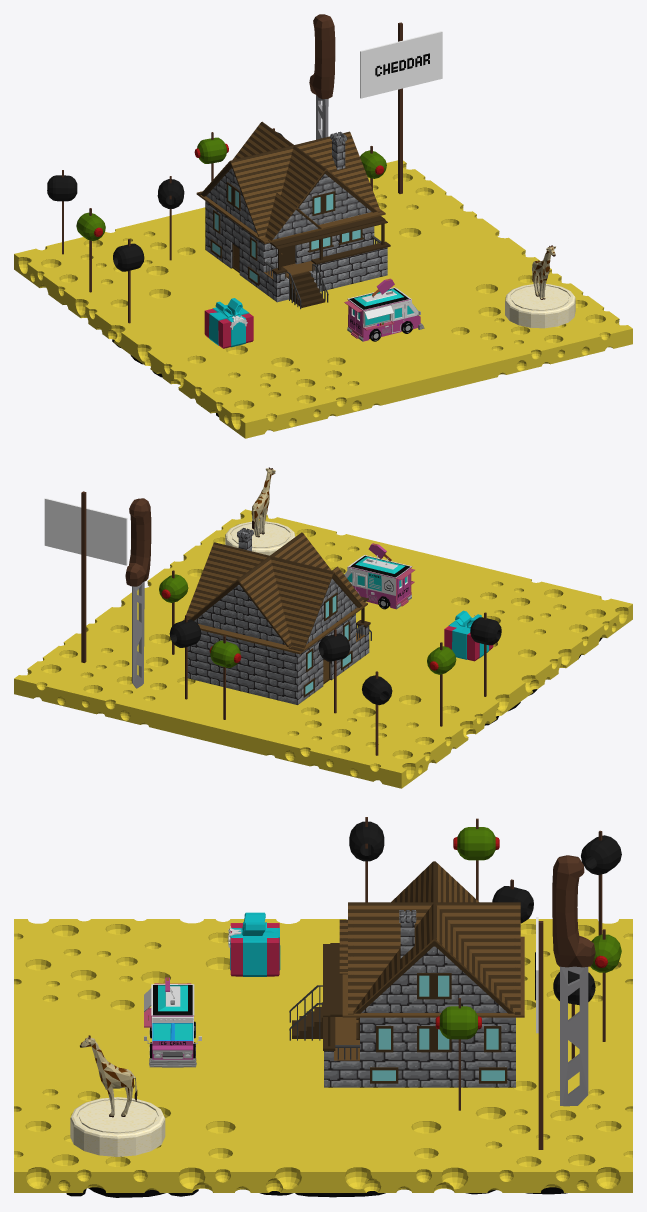
3 renders of one model, top to bottom at view 1: azimuth 30°, elevation 25°; view 2: azimuth 150°, elevation 25°; view 3: azimuth 270°, elevation 25°, orthographic. The views are drawn at different scales.
Parts seen in each view (by area): view 1: Cube.022, Cube.586, Cube.023, VEHICLES_ICE_CREAM_TRUCK, Cylinder.016, Cube.024, OBJRANDOM_GIANT_PRESENT, Sphere.017, Sphere.016, Sphere.020, Sphere.018, Sphere.022 (+2 smaller); view 2: Cube.022, Cube.586, Cube.023, Cube.024, VEHICLES_ICE_CREAM_TRUCK, OBJRANDOM_GIANT_PRESENT, Cylinder.016, Sphere.016, Sphere.017, Sphere.020, Sphere.021, Sphere.022 (+3 smaller); view 3: Cube.022, Cube.586, Cube.024, Cylinder.016, VEHICLES_ICE_CREAM_TRUCK, OBJRANDOM_GIANT_PRESENT, Cube.023, Sphere.016, Sphere.019, ANIMAL_JIRAFA, Sphere.018, Sphere.017 (+4 smaller).
Part boxes in pixels (<box>): Cube.022: <box>14,160,632,438</box>; Cube.586: <box>196,121,390,309</box>; Cube.023: <box>360,22,442,193</box>; VEHICLES_ICE_CREAM_TRUCK: <box>344,278,424,341</box>; Cylinder.016: <box>505,284,575,328</box>; Cube.024: <box>309,14,335,139</box>; OBJRANDOM_GIANT_PRESENT: <box>204,298,253,348</box>; Sphere.017: <box>113,239,144,323</box>; Sphere.016: <box>47,170,77,254</box>; Sphere.020: <box>157,176,184,260</box>; Sphere.018: <box>76,208,105,292</box>; Sphere.022: <box>194,132,228,181</box>; Cube.022: <box>14,509,632,788</box>; Cube.586: <box>182,528,371,704</box>; Cube.023: <box>44,491,127,662</box>; Cube.024: <box>125,498,151,688</box>; VEHICLES_ICE_CREAM_TRUCK: <box>344,543,414,609</box>; OBJRANDOM_GIANT_PRESENT: <box>444,610,493,661</box>; Cylinder.016: <box>225,521,295,555</box>; Sphere.016: <box>362,671,392,755</box>; Sphere.017: <box>470,612,501,696</box>; Sphere.020: <box>318,629,349,713</box>; Sphere.021: <box>169,615,201,699</box>; Sphere.022: <box>209,635,241,719</box>; Cube.022: <box>14,919,632,1192</box>; Cube.586: <box>289,861,524,1087</box>; Cube.024: <box>552,855,595,1106</box>; Cylinder.016: <box>70,1097,165,1156</box>; VEHICLES_ICE_CREAM_TRUCK: <box>144,977,201,1067</box>; OBJRANDOM_GIANT_PRESENT: <box>228,912,280,976</box>; Cube.023: <box>535,917,543,1149</box>; Sphere.016: <box>581,830,621,935</box>; Sphere.019: <box>435,998,481,1110</box>; ANIMAL_JIRAFA: <box>80,1035,137,1117</box>; Sphere.018: <box>453,818,499,900</box>; Sphere.017: <box>349,817,384,902</box>.
Size of the model in its own units: 3917 by 1980 by 4000.
Materials: 42 (4 with a texture image).
